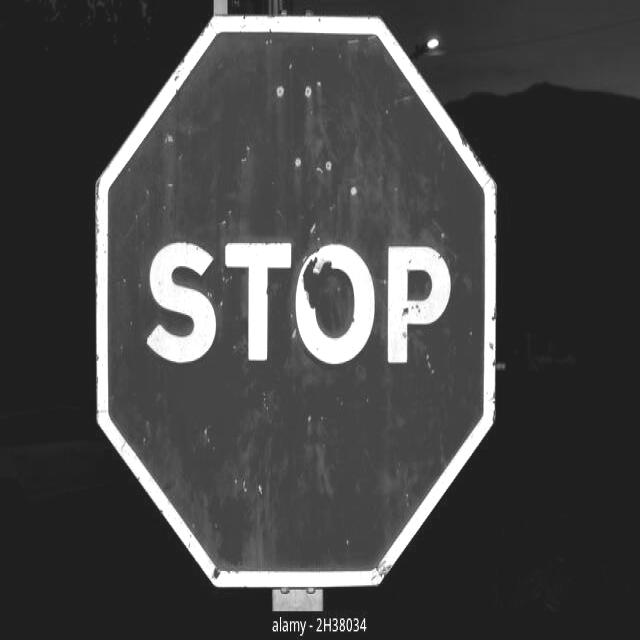Stop-sign: (100, 0, 523, 631)
